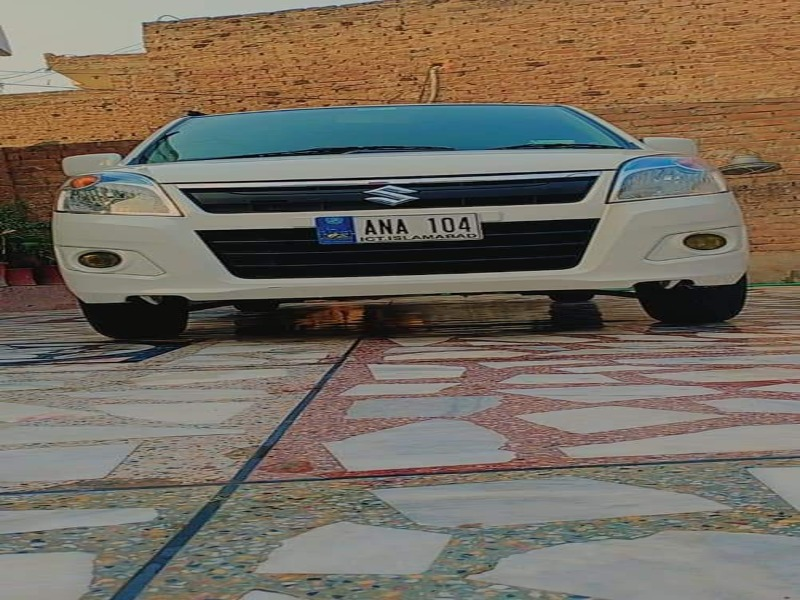License Plate: (311, 210, 490, 247)
